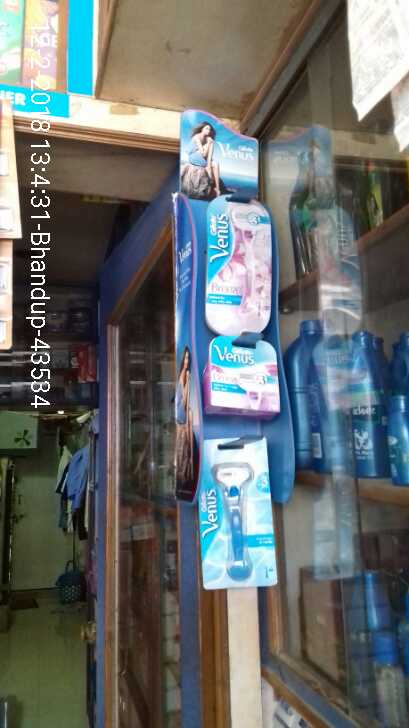beauty: (198, 436, 276, 580), (205, 194, 268, 336), (209, 335, 281, 418)
